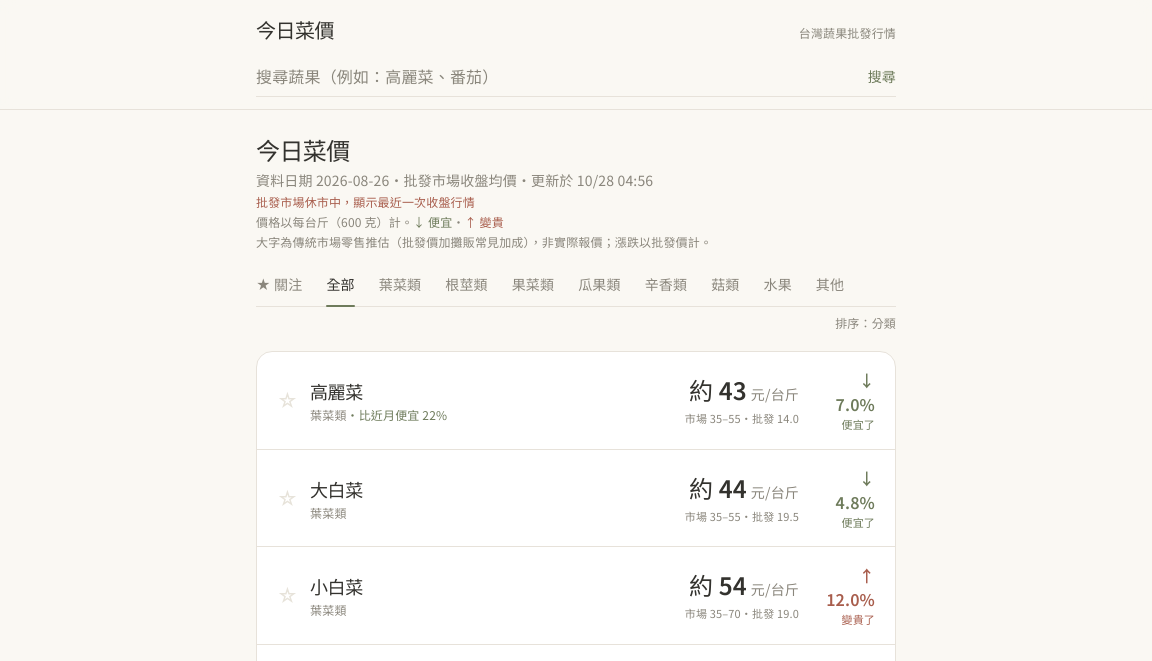
Test: App — a shared live-search result › still follows the URL after the visitor has used the box
Expected: the heading "高麗菜" is shown, [310,378,363,404]
Type "蔥" into the search field with placeholder "搜尋蔬果（例如：高麗菜、番茄）" at (556, 76), box [256,56,856,96]
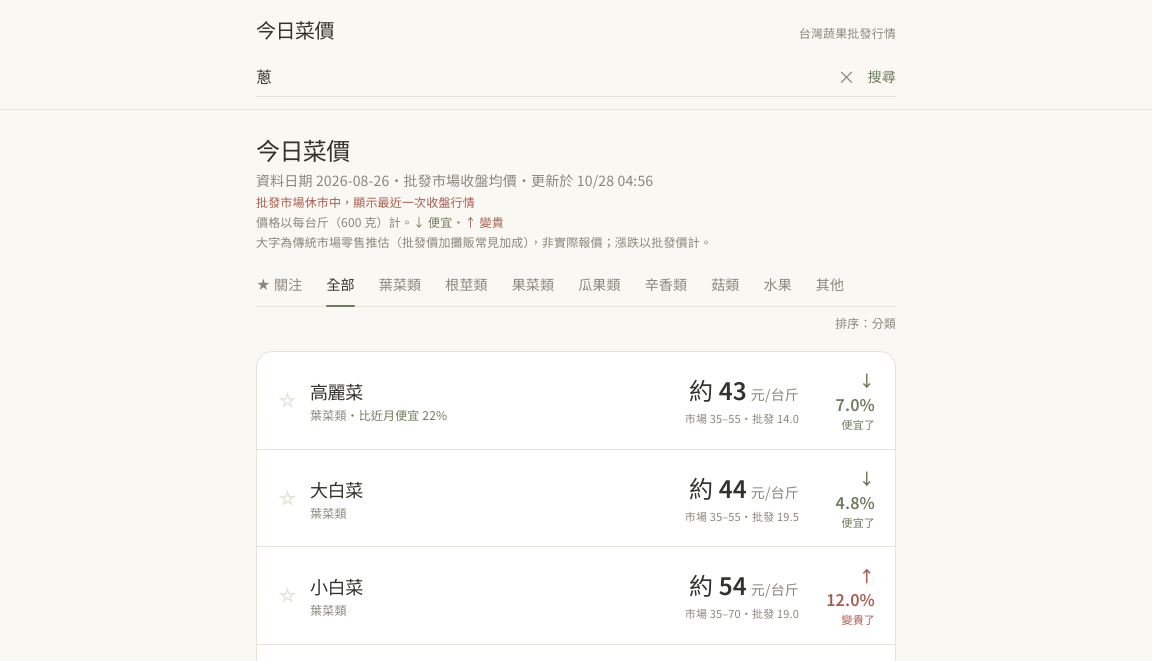
Submit the form with placeholder "搜尋蔬果", box [256,56,896,97]
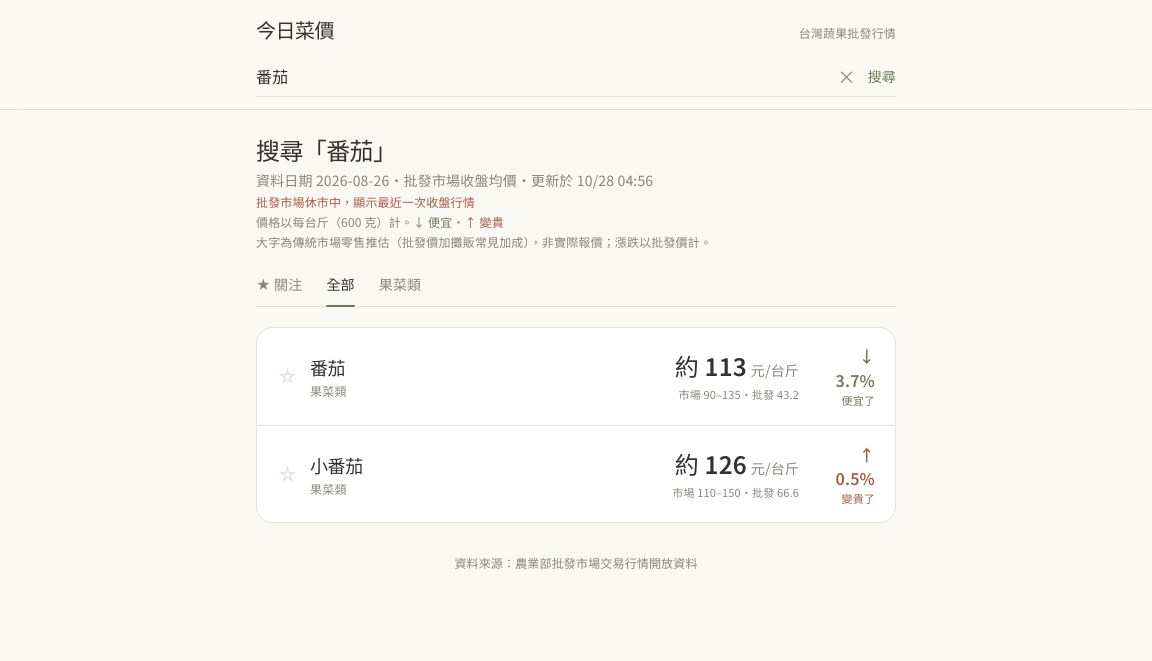
Expected: the element with test id "produce-list" shows "番茄", [310,354,345,380]
Expected: the search field with placeholder "搜尋蔬果（例如：高麗菜、番茄）" holds "番茄", [256,56,826,96]
